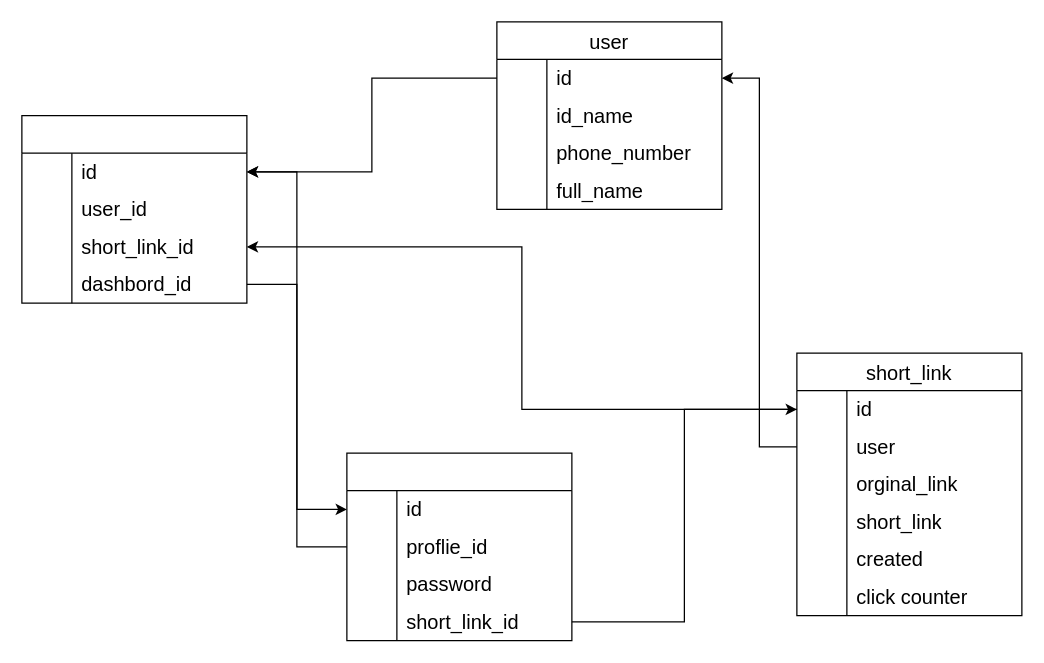
Some shapes in this 1044 by 663 pixel diagram are drawn without their labels. The shapes that lost their labels are listed below. From the top down, each one's box as (x1, y1, x2, y2) in pixels, then its label:
(21, 114, 247, 303): profile
(346, 452, 572, 641): dasbord
